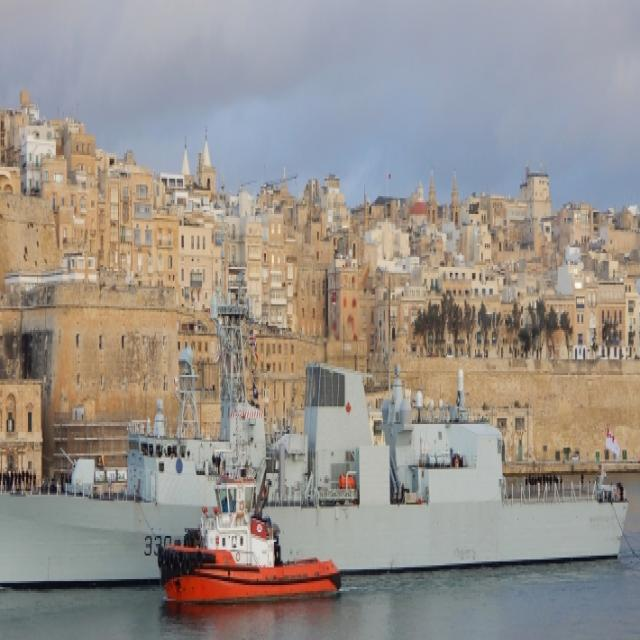Fragata: (1, 258, 628, 597)
